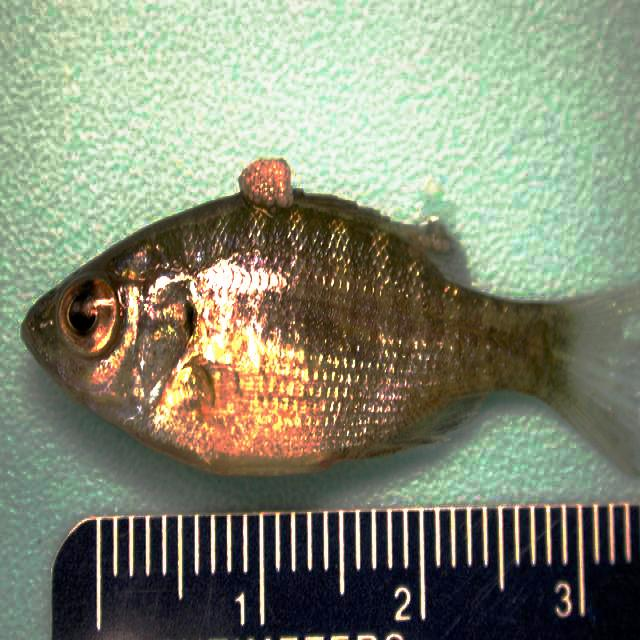Epizootic Ulcerative Syndrome -EUS-: (22, 161, 639, 474)
